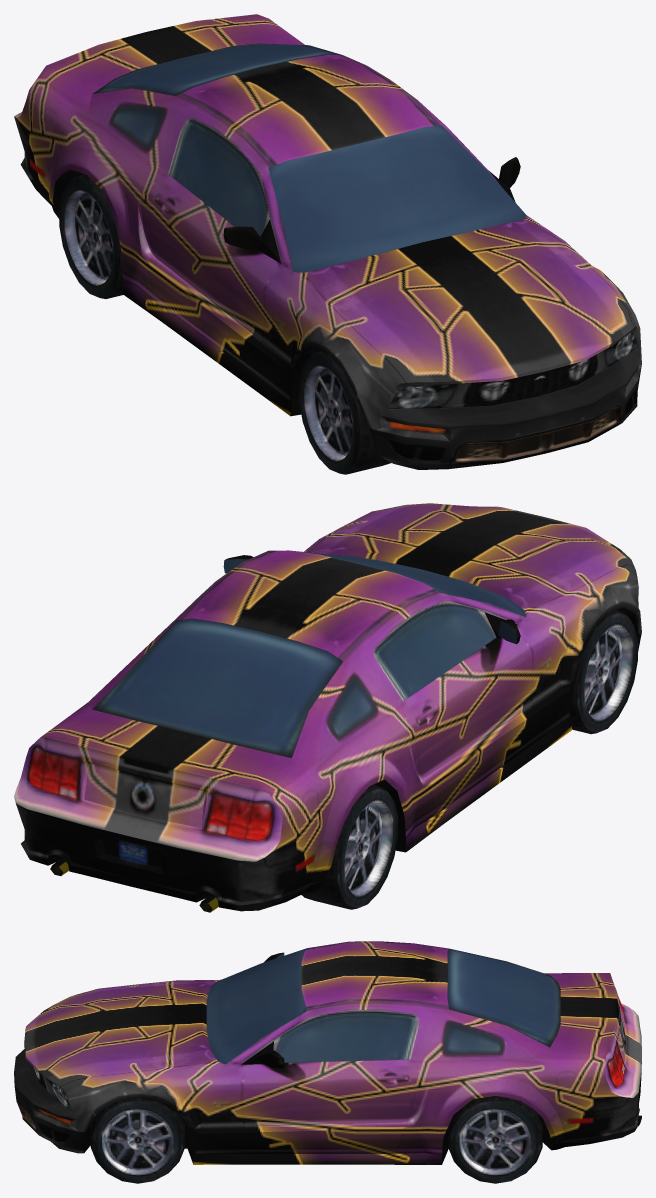
The model's file is Ford Mustang purple without spoiler.fbx.
3 views of the same model, one above another, from view 1: azimuth 30°, elevation 25°; view 2: azimuth 150°, elevation 25°; view 3: azimuth 270°, elevation 25° (orthographic). The views are drawn at different scales.
Parts seen in each view (by area): view 1: mustang, FR, RR; view 2: mustang, RR, FR; view 3: mustang, RL, FL.
Part boxes in pixels (x1,y1,x2,y2): mustang: (14,14,641,469); FR: (299,351,391,474); RR: (59,174,123,298); mustang: (14,503,641,912); RR: (301,784,397,909); FR: (571,610,637,734); mustang: (14,941,641,1164); RL: (448,1096,542,1183); FL: (90,1098,184,1183).
Bounding box in the file's own units: 180 × 133 × 447.
